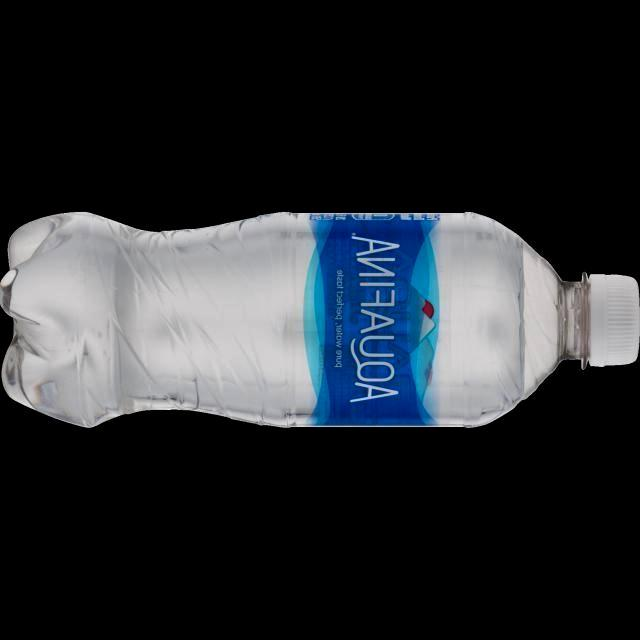bottle: (1, 213, 640, 429)
